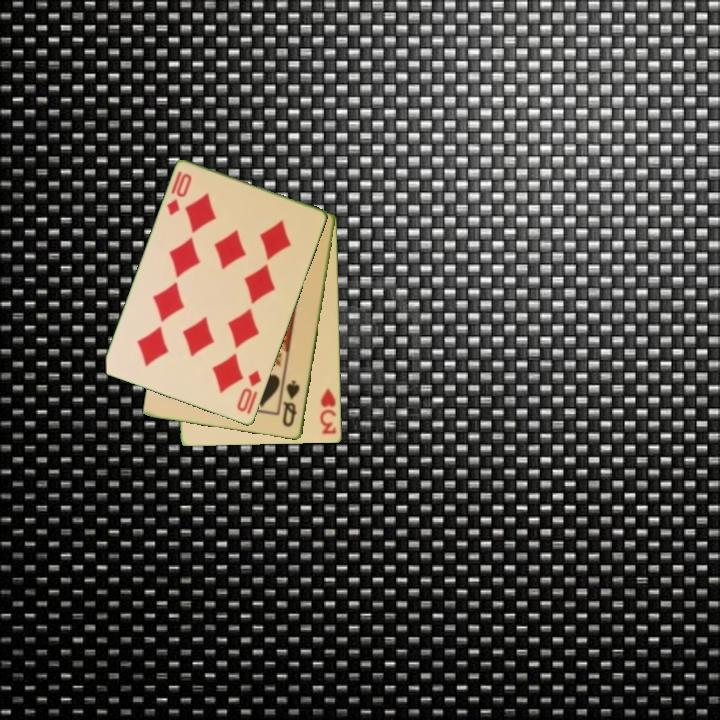10d: (233, 367, 265, 417), (163, 170, 195, 219)
3h: (317, 385, 339, 438)
Qs: (279, 377, 303, 430)
